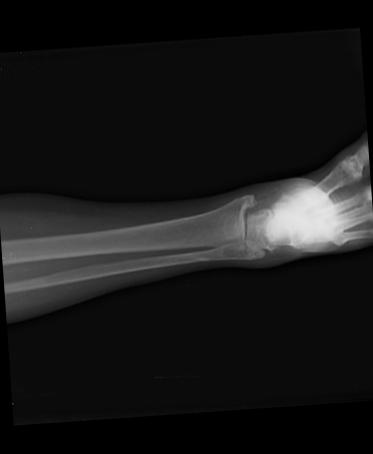fractured: (163, 253, 208, 263)
